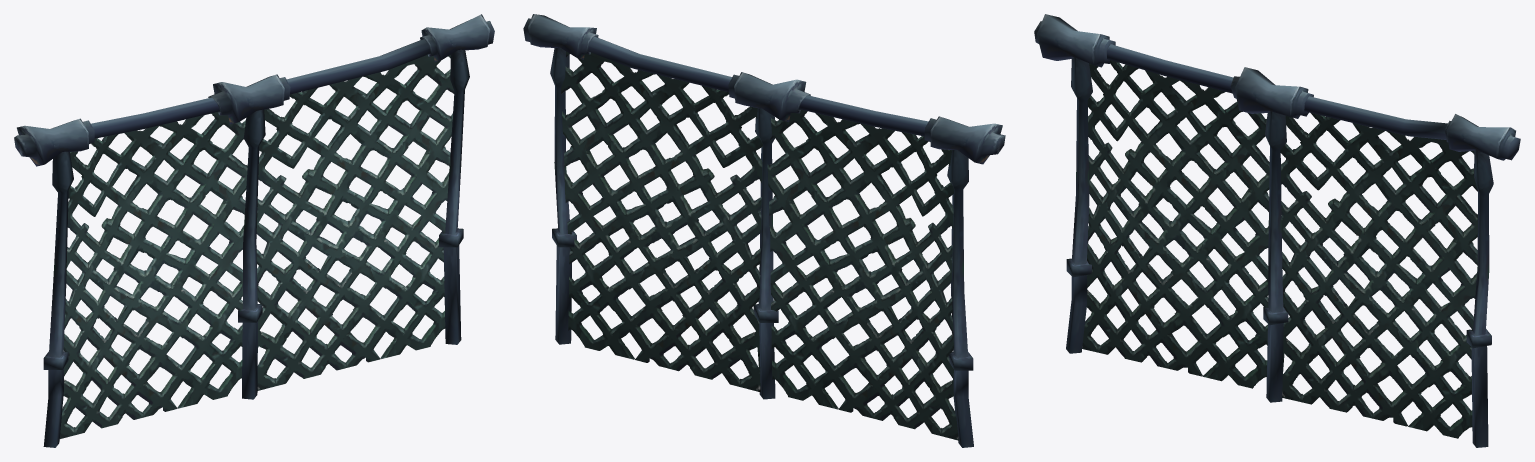
The model's file is mesh_Pt_sewb_props_15.FBX.
3 views of the same model, side by side, from view 1: azimuth 30°, elevation 25°; view 2: azimuth 150°, elevation 25°; view 3: azimuth 330°, elevation 25° (orthographic).
Visible parts, largest first — view 1: polySurface254; view 2: polySurface254; view 3: polySurface254.
Part boxes in pixels (x1,y1,x2,y2): polySurface254: (14,14,494,447); polySurface254: (523,14,1005,447); polySurface254: (1034,14,1520,447).
Size of the model in its own units: 0.1295 by 0.0858 by 0.0107.
1 material, 1 textured.
